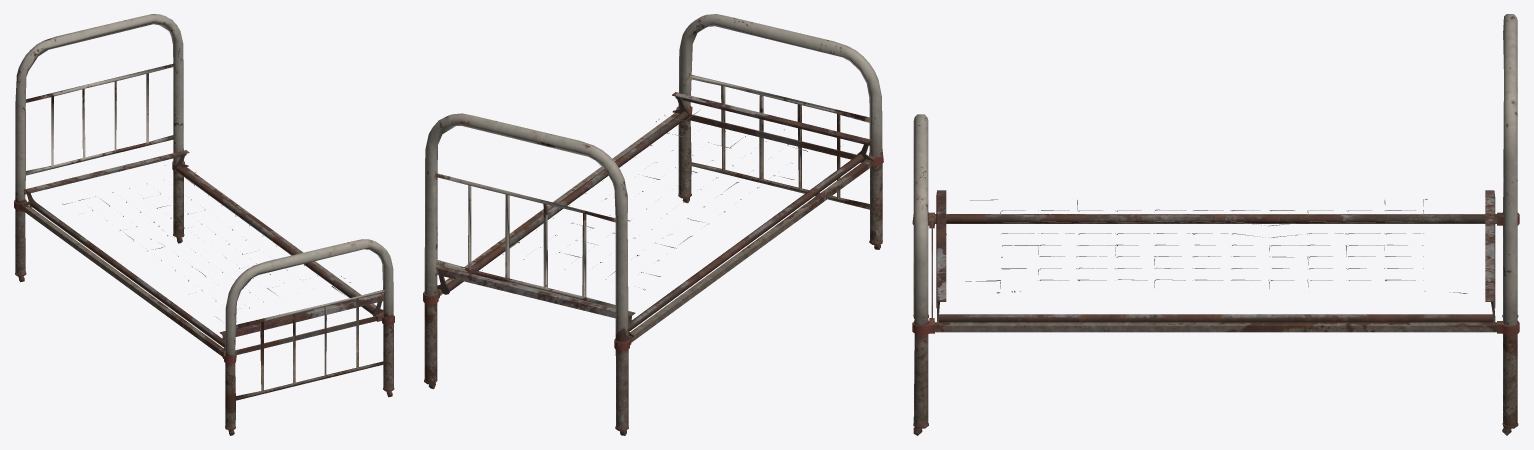
The model's file is bed.glb.
3 renders of one model, left to right at view 1: azimuth 30°, elevation 25°; view 2: azimuth 150°, elevation 25°; view 3: azimuth 270°, elevation 25°, orthographic. The views are drawn at different scales.
Visible parts, largest first — view 1: old_bed_frame; view 2: old_bed_frame; view 3: old_bed_frame.
Part boxes in pixels (x1=…): old_bed_frame: x1=14, y1=14, x2=394, y2=435; old_bed_frame: x1=423, y1=14, x2=883, y2=435; old_bed_frame: x1=912, y1=14, x2=1519, y2=435.
Bounding box in the file's own units: 0.9047 × 1.2 × 2.
1 material, 1 textured.
